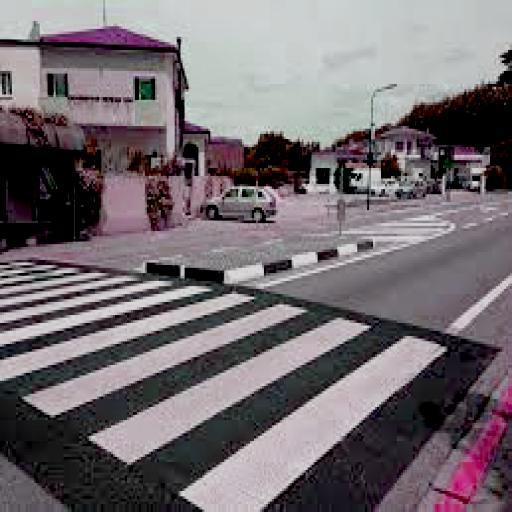crosswalk: (18, 296, 434, 470)
